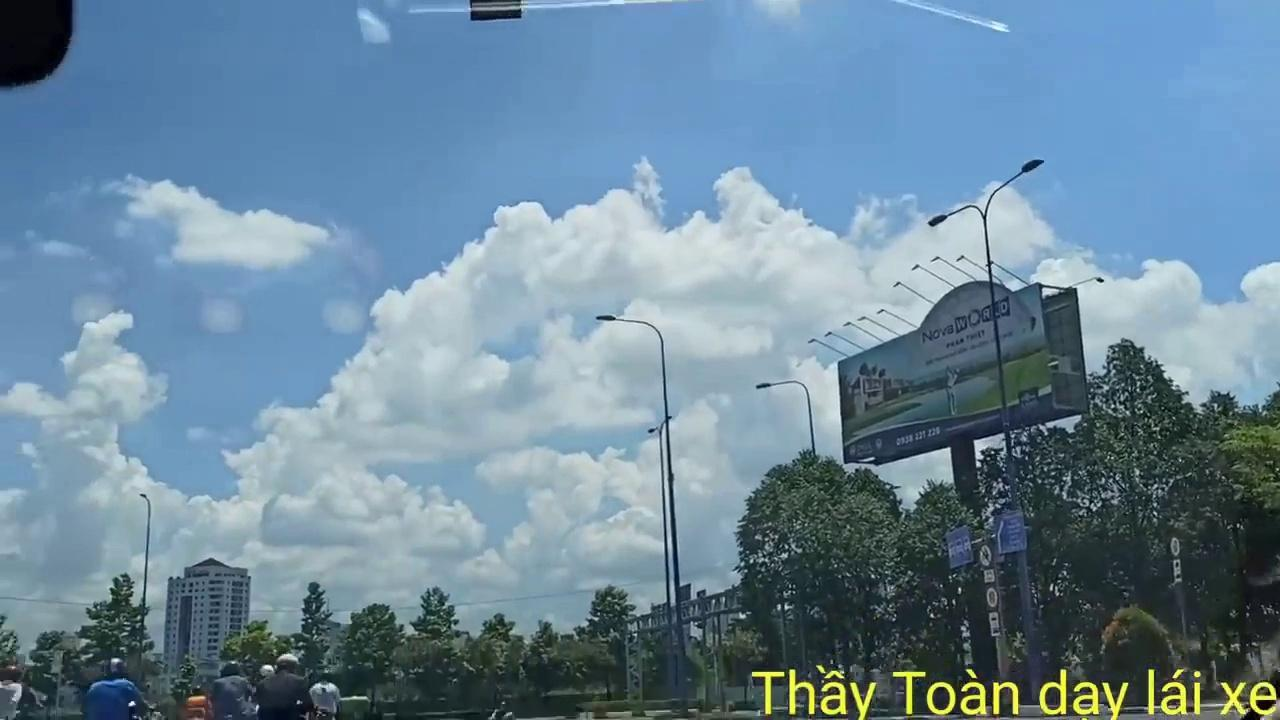Biển phụ: (988, 610, 1004, 638)
Chỉ hướng đường: (995, 511, 1028, 555)
Cấm xe máy: (978, 542, 995, 568)
Làn đường cho từng xe: (946, 526, 974, 568)
